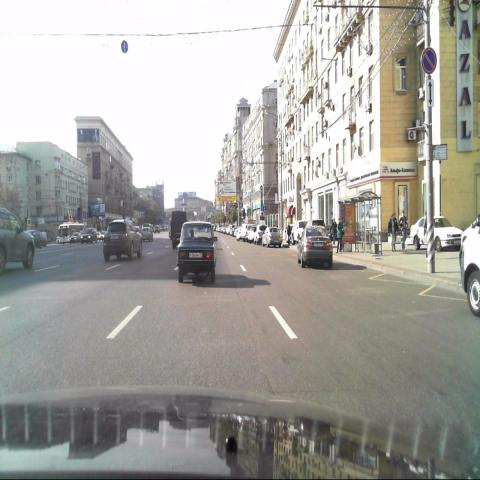3_28: (420, 46, 438, 75)
8_2_4: (426, 79, 434, 107)
